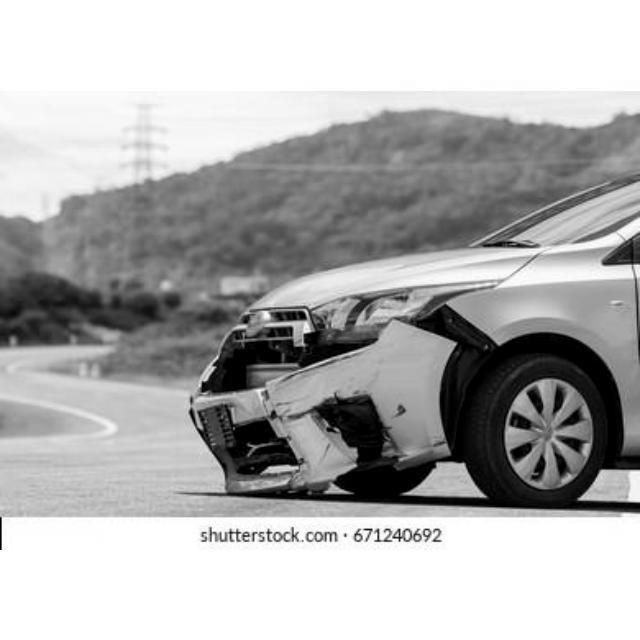front-bumper-dent: (171, 329, 499, 484)
